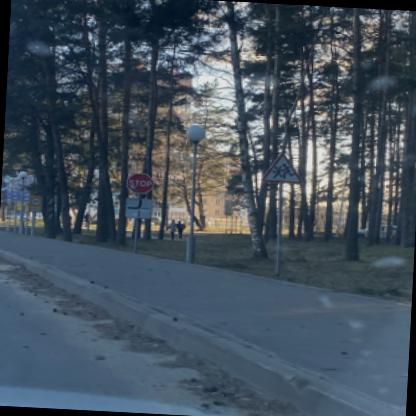stop: (124, 170, 152, 192)
